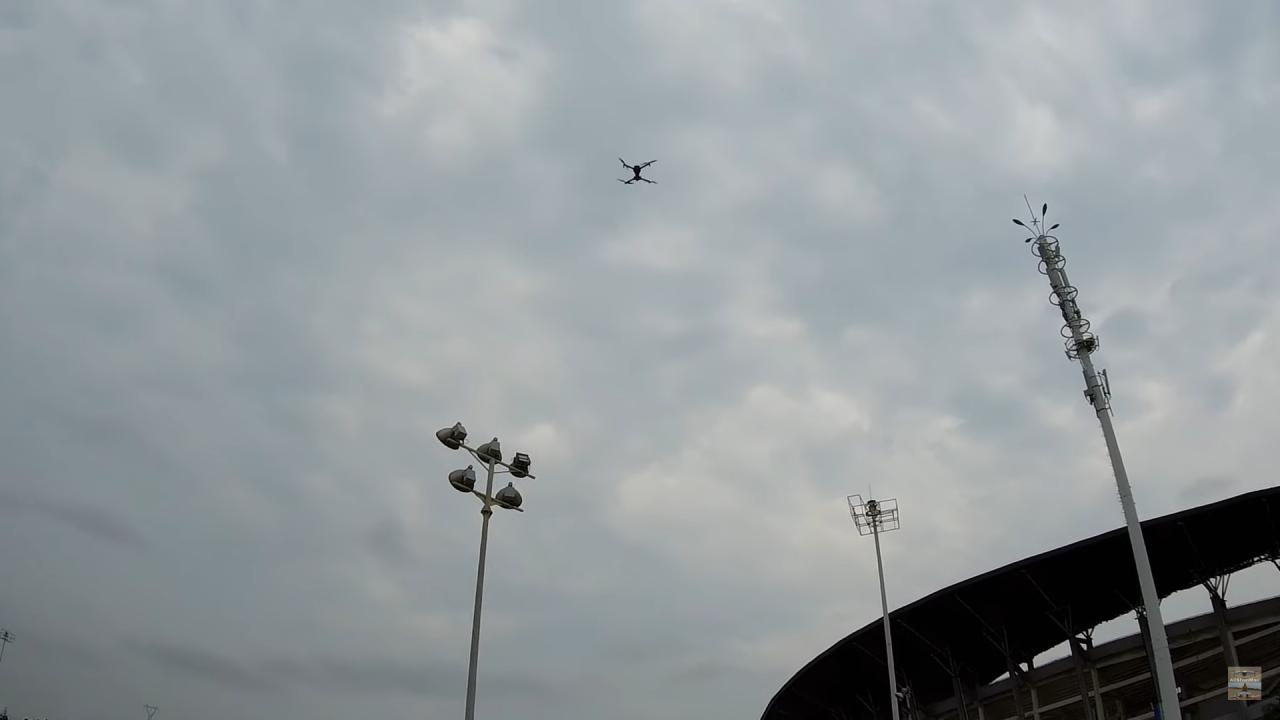Drone: (610, 145, 667, 200)
